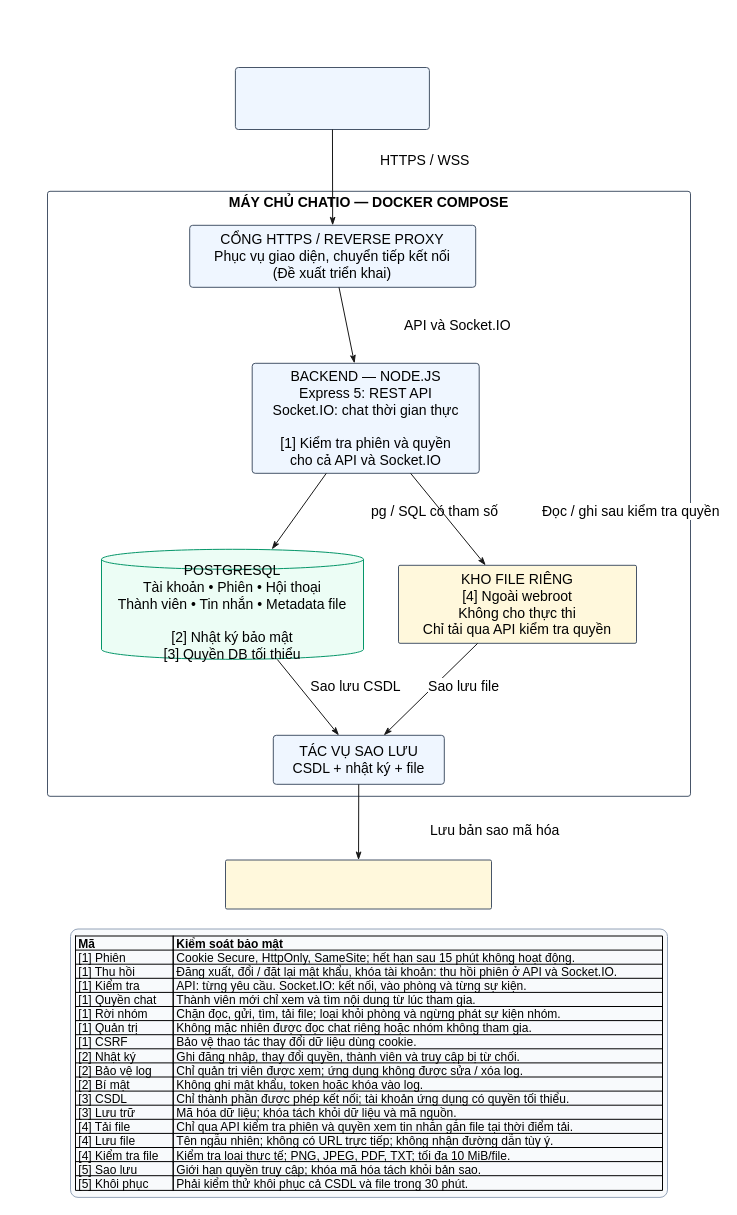
The diagram is 737 pixels wide and 1215 high, and some of its shapes have lost their labels. Here are the shapes that lost their labels. From the top down, the centre of each, then its label:
the point at 331,98: FRONTEND React + Vite Trình duyệt người dùng
the point at 358,884: KHO SAO LƯU RIÊNG [5] Mã hóa • Hằng ngày • Giữ 7 bản
